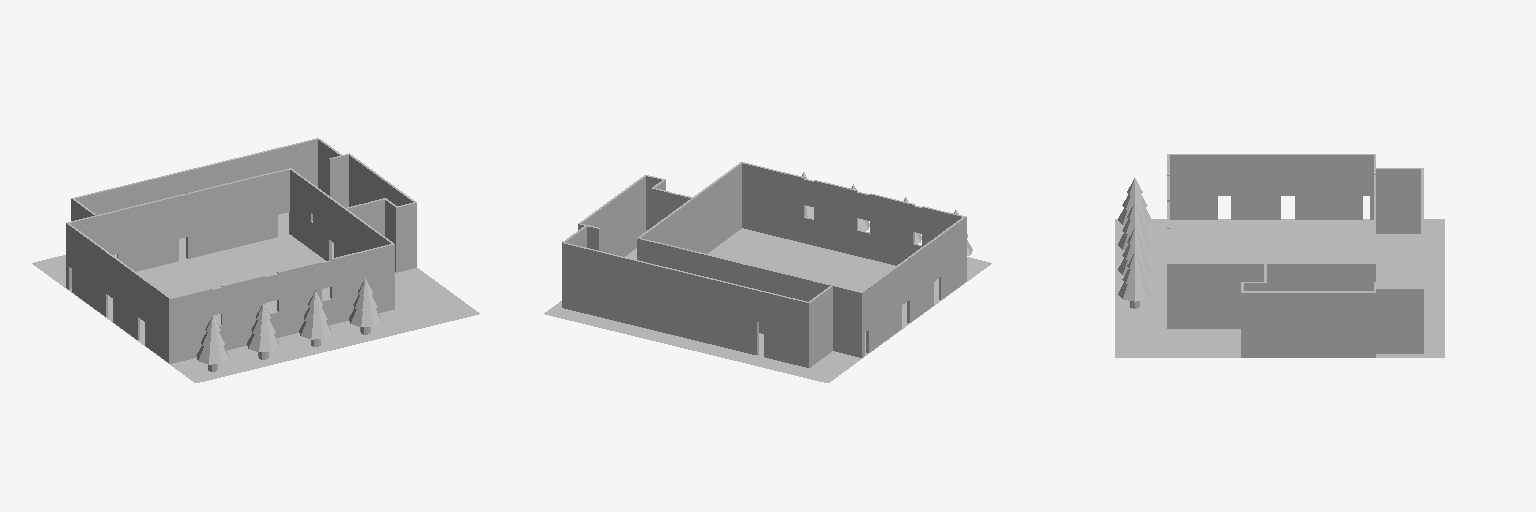
Rendered from wareeton1.obj.
The picture shows the model from 3 angles: view 1: azimuth 30°, elevation 25°; view 2: azimuth 150°, elevation 25°; view 3: azimuth 270°, elevation 25°; orthographic projection.
Parts seen in each view (by area): view 1: Plane_; view 2: Plane_; view 3: Plane_.
Part boxes in pixels (bbox=[...]): Plane_: bbox=[32, 138, 479, 382]; Plane_: bbox=[544, 162, 991, 382]; Plane_: bbox=[1115, 154, 1444, 357].
Size of the model in its own units: 92.86 by 20.41 by 92.86.